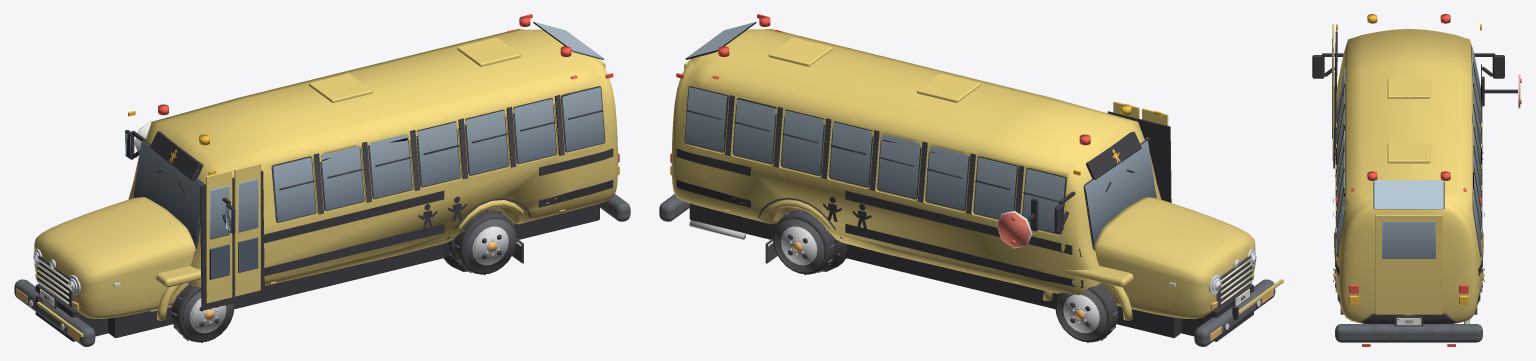
File: Excursao_SchoolBus.fbx
The picture shows the model from 3 angles, left to right: view 1: azimuth 30°, elevation 25°; view 2: azimuth 150°, elevation 25°; view 3: azimuth 270°, elevation 25°; orthographic projection. The views are drawn at different scales.
Parts seen in each view (by area): view 1: Excursao_SchoolBus; view 2: Excursao_SchoolBus; view 3: Excursao_SchoolBus.
Part boxes in pixels (x1,y1,x2,y2): Excursao_SchoolBus: (14,14,630,346); Excursao_SchoolBus: (659,14,1283,346); Excursao_SchoolBus: (1312,14,1521,346).
Bounding box in the file's own units: 9.36 × 3.16 × 3.43.
1 material, 1 textured.
